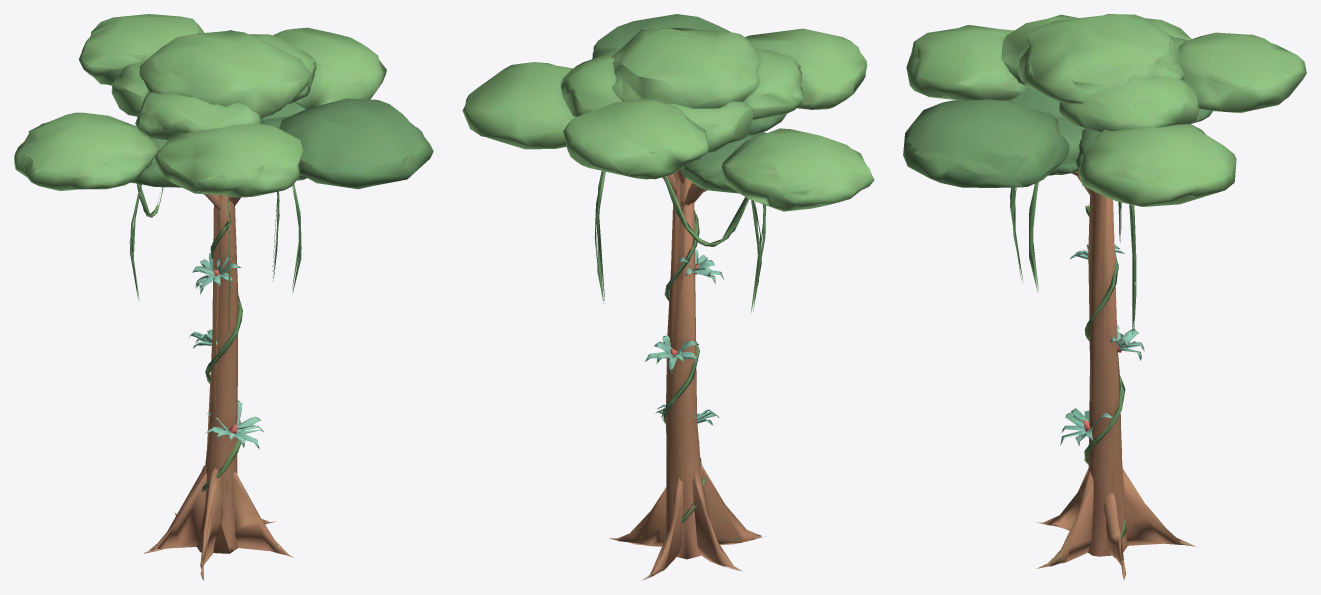
File: jungle.glb
3 renders of one model, left to right at view 1: azimuth 30°, elevation 25°; view 2: azimuth 150°, elevation 25°; view 3: azimuth 270°, elevation 25°, orthographic. The views are drawn at different scales.
Parts seen in each view (by area): view 1: lod0; view 2: lod0; view 3: lod0.
Boxes of the visible parts, <box> form: lod0: <box>14,14,433,580</box>; lod0: <box>462,14,874,580</box>; lod0: <box>903,14,1306,580</box>.
Size of what is drawn, in the model's own units: 7.85 by 10.14 by 7.15.
Materials: 1 (1 with a texture image).
